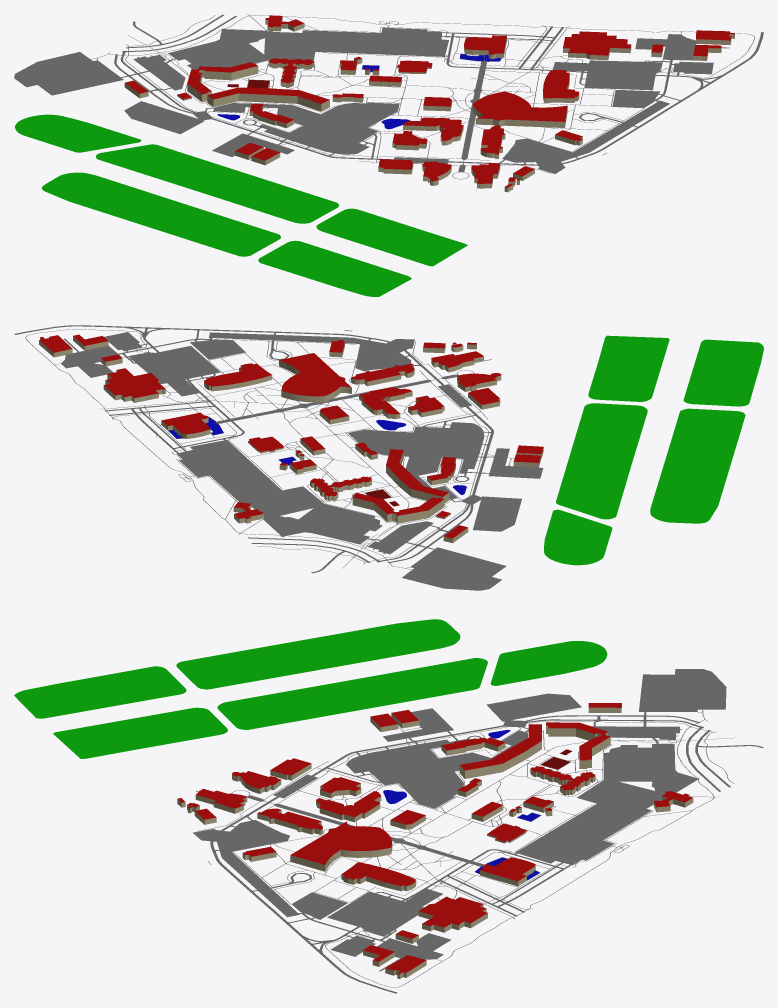
The model's file is RiddleCampusMapMeshfbx.fbx.
3 renders of one model, top to bottom at view 1: azimuth 30°, elevation 25°; view 2: azimuth 150°, elevation 25°; view 3: azimuth 270°, elevation 25°, orthographic. The views are drawn at different scales.
Parts seen in each view (by area): view 1: SurfaceArea2091, SurfaceArea2092, SurfaceParking Concorde Lot, SurfaceArea2099, SurfaceArea2090, SurfaceArea2095, SurfaceParking Voyager Lot, Building Mori Hosseini Student Union, SurfaceParking Citation East Lot, SurfaceParking Enterprise Lot, SurfaceParking Falcon Lot, Building New Residence Hall Phase 2 (+22 smaller); view 2: SurfaceArea2091, SurfaceArea2092, SurfaceParking Concorde Lot, SurfaceArea2099, SurfaceArea2090, SurfaceArea2095, SurfaceParking Voyager Lot, SurfaceParking Enterprise Lot, Building Mori Hosseini Student Union, SurfaceParking Citation East Lot, SurfaceParking Falcon Lot, Building Lehman College of Engineering (+23 smaller); view 3: SurfaceArea2091, SurfaceArea2092, SurfaceParking Concorde Lot, SurfaceArea2099, SurfaceArea2090, SurfaceArea2095, SurfaceParking Voyager Lot, SurfaceParking Enterprise Lot, Building Mori Hosseini Student Union, SurfaceParking Citation East Lot, SurfaceParking Falcon Lot, Building Lehman College of Engineering (+20 smaller).
Part boxes in pixels (x1,y1,x2,y2): SurfaceArea2091: (42,172,280,256); SurfaceArea2092: (96,144,338,223); SurfaceParking Concorde Lot: (264,27,448,61); SurfaceArea2099: (258,240,411,296); SurfaceArea2090: (316,208,467,266); SurfaceArea2095: (15,114,141,152); SurfaceParking Voyager Lot: (14,52,123,95); Building Mori Hosseini Student Union: (472,91,567,127); SurfaceParking Citation East Lot: (553,60,661,90); SurfaceParking Enterprise Lot: (168,29,267,69); SurfaceParking Falcon Lot: (292,119,378,154); Building New Residence Hall Phase 2: (207,87,329,111); SurfaceArea2091: (650,408,745,523); SurfaceArea2092: (556,403,647,519); SurfaceParking Concorde Lot: (176,440,323,519); SurfaceArea2099: (683,339,763,406); SurfaceArea2090: (588,335,669,401); SurfaceArea2095: (544,509,612,565); SurfaceParking Voyager Lot: (402,547,506,590); SurfaceParking Enterprise Lot: (263,504,382,544); Building Mori Hosseini Student Union: (279,353,351,402); SurfaceParking Citation East Lot: (128,346,220,396); SurfaceParking Falcon Lot: (414,422,484,453); Building Lehman College of Engineering: (103,368,165,402); SurfaceArea2091: (176,619,460,689); SurfaceArea2092: (217,658,487,729); SurfaceParking Concorde Lot: (515,780,664,865); SurfaceArea2099: (14,666,186,718); SurfaceArea2090: (53,707,227,758); SurfaceArea2095: (490,641,607,685); SurfaceParking Voyager Lot: (639,669,726,711); SurfaceParking Enterprise Lot: (604,744,698,793); Building Mori Hosseini Student Union: (290,821,392,871); SurfaceParking Citation East Lot: (327,888,442,936); SurfaceParking Falcon Lot: (346,745,436,785); Building Lehman College of Engineering: (418,896,487,932).
Bounding box in the file's own units: 118651 × 1250 × 100434.
